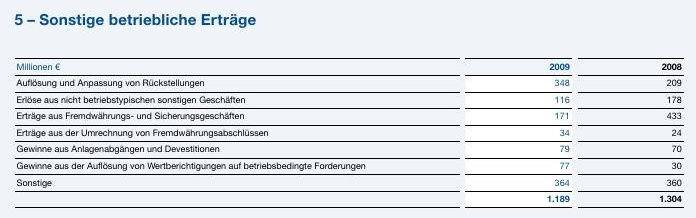table: (0, 0, 696, 218)
